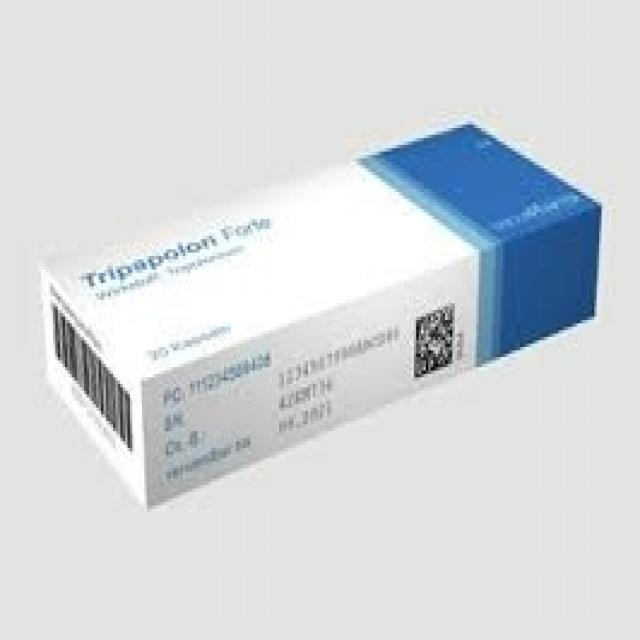datamatrix: (413, 298, 458, 382)
